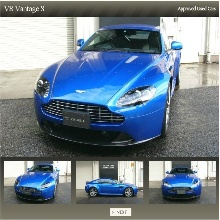no damage: (33, 24, 180, 146), (15, 164, 60, 202), (162, 168, 201, 201), (85, 175, 139, 198)
